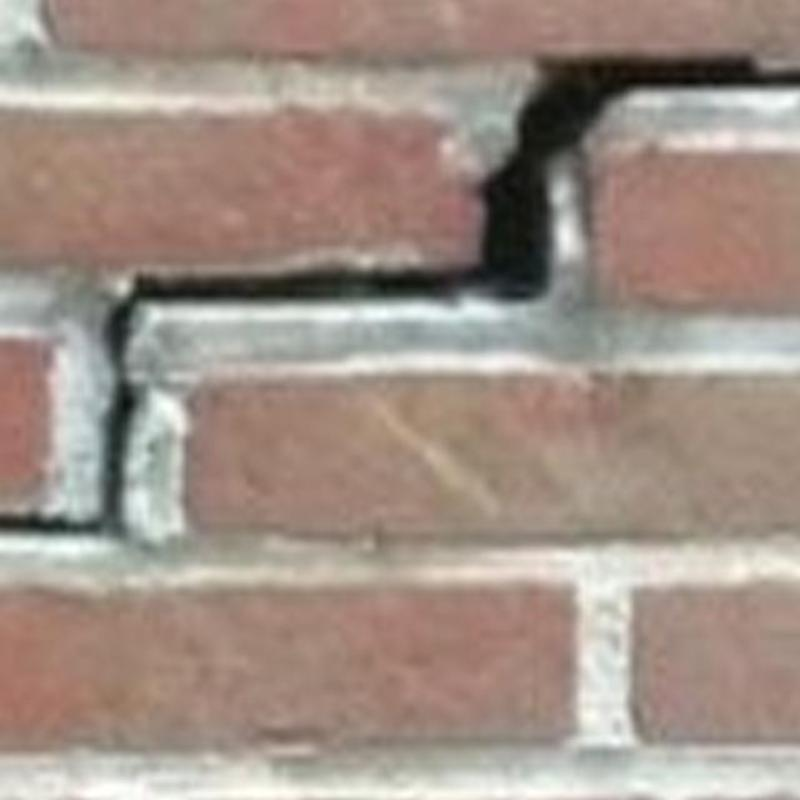crack: (0, 59, 800, 534)
